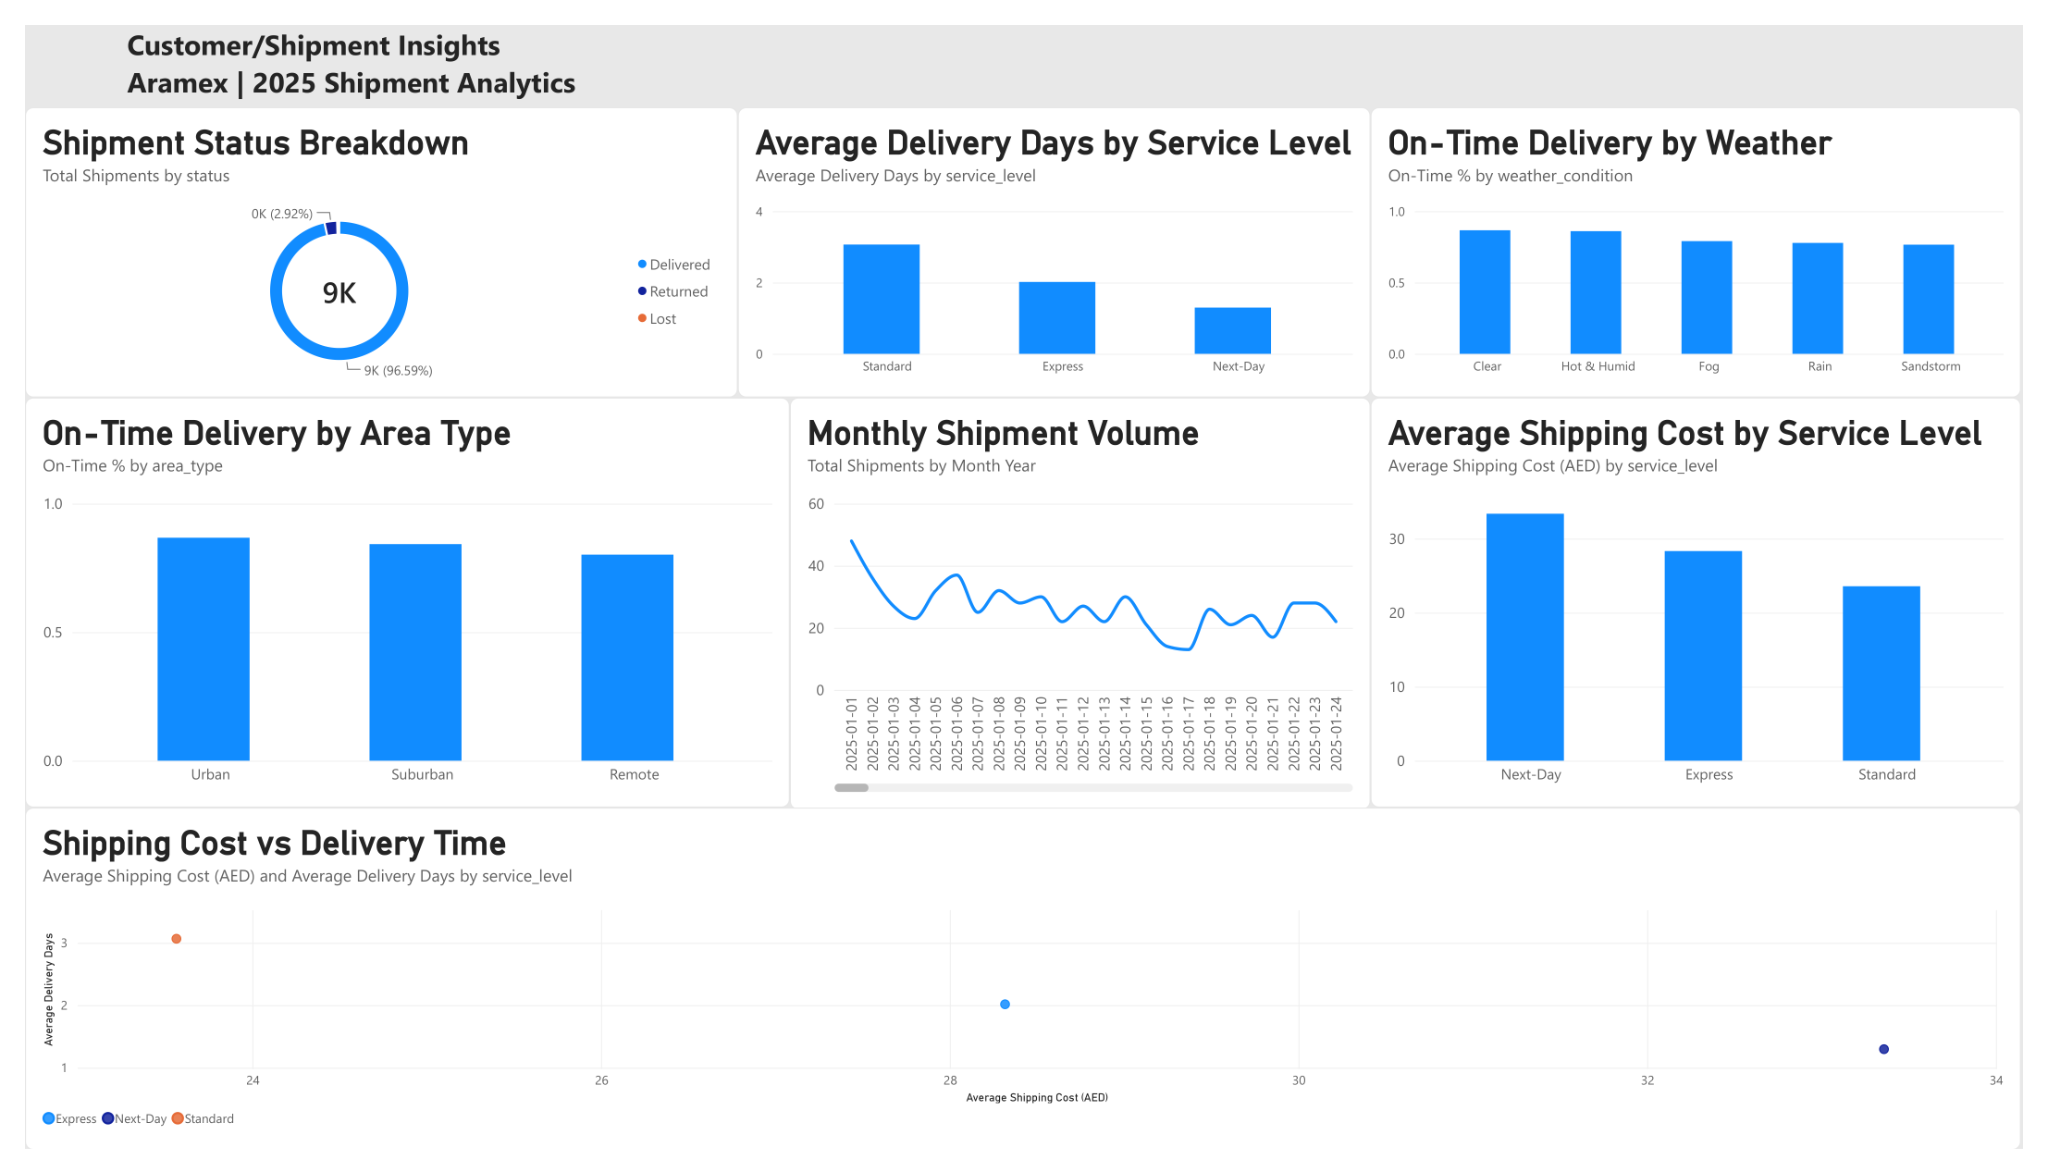

Layout of this report page (visuals, bound fields, positions):
{"tool":"powerbi","page":{"name":"Customer/Shipment Insights","canvas":[1920,1080],"ordinal":2},"visuals":[{"type":"donutChart","title":"Shipment Status Breakdown","fields":{"Category":["shipments_clean.status"],"Y":["shipments_clean.Total Shipments"]},"box":[0,78.7,684.8,279.2],"z":0},{"type":"clusteredColumnChart","title":"Average Delivery Days by Service Level","fields":{"Category":["shipments_clean.service_level"],"Y":["shipments_clean.Average Delivery Days"]},"box":[684.8,78.7,608.4,279.2],"z":1000},{"type":"clusteredColumnChart","title":"On-Time Delivery by Weather","fields":{"Category":["shipments_clean.weather_condition"],"Y":["shipments_clean.On-Time %"]},"box":[1293.2,78.7,625.1,279.2],"z":2000},{"type":"clusteredColumnChart","title":"Average Shipping Cost by Service Level","fields":{"Category":["shipments_clean.service_level"],"Y":["shipments_clean.Average Shipping Cost"]},"box":[1293.2,357.9,625.1,393.7],"z":3000},{"type":"clusteredColumnChart","title":"On-Time Delivery by Area Type","fields":{"Category":["shipments_clean.area_type"],"Y":["shipments_clean.On-Time %"]},"box":[0,357.9,734.9,393.7],"z":4000},{"type":"lineChart","title":"Monthly Shipment Volume","fields":{"Category":["shipments_clean.Month Year"],"Y":["shipments_clean.Total Shipments"]},"box":[734.9,357.9,558.3,396.1],"z":5000},{"type":"scatterChart","title":"Shipping Cost vs Delivery Time","fields":{"Series":["shipments_clean.service_level"],"X":["shipments_clean.Average Shipping Cost"],"Y":["shipments_clean.Average Delivery Days"]},"box":[0,751.6,1918.3,329.3],"z":6000},{"type":"textbox","box":[97.8,0,1672.5,78.7],"z":7000}]}

Visuals, with their boxes in screenshot pixels (x1, y1, x2, y2), scaled from the page's 1920x1080 canvas onto the 2048x1173 screenshot:
"Shipment Status Breakdown" donutChart: rect(0, 85, 730, 389)
"Average Delivery Days by Service Level" clusteredColumnChart: rect(730, 85, 1379, 389)
"On-Time Delivery by Weather" clusteredColumnChart: rect(1379, 85, 2046, 389)
"Average Shipping Cost by Service Level" clusteredColumnChart: rect(1379, 389, 2046, 816)
"On-Time Delivery by Area Type" clusteredColumnChart: rect(0, 389, 784, 816)
"Monthly Shipment Volume" lineChart: rect(784, 389, 1379, 819)
"Shipping Cost vs Delivery Time" scatterChart: rect(0, 816, 2046, 1172)
textbox: rect(104, 0, 1888, 85)
